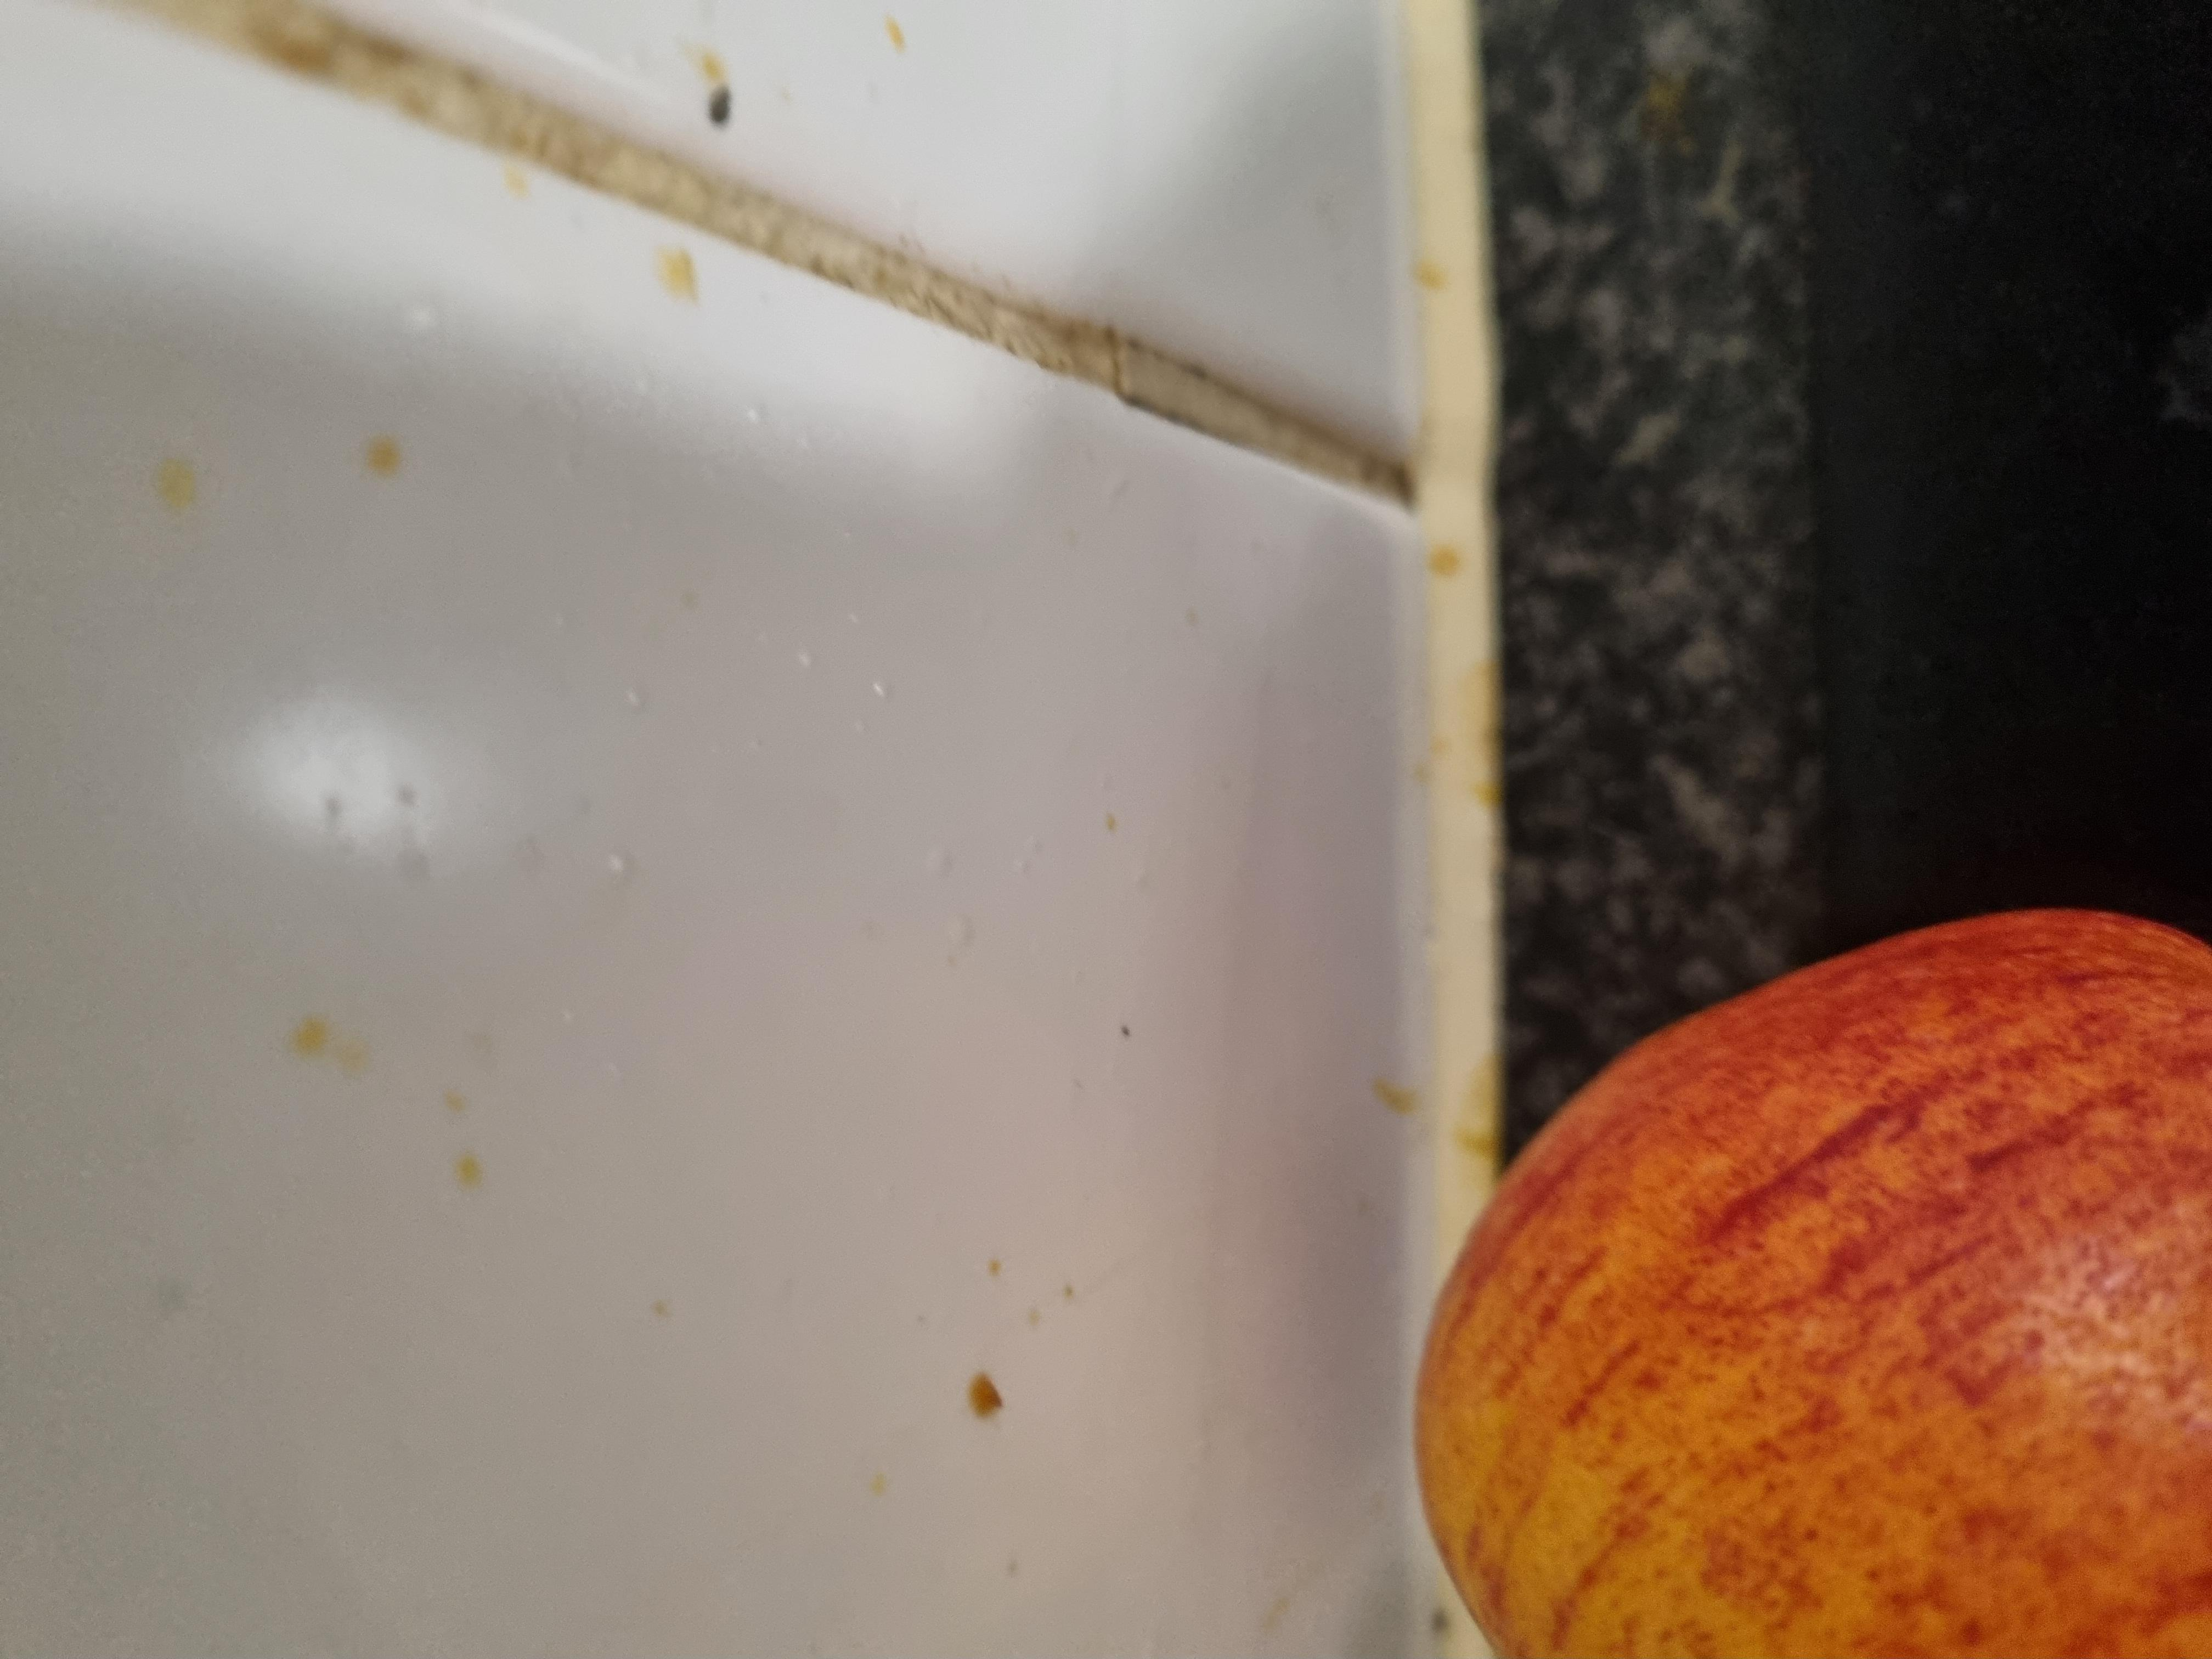Apple: (0, 1035, 1040, 1659)
